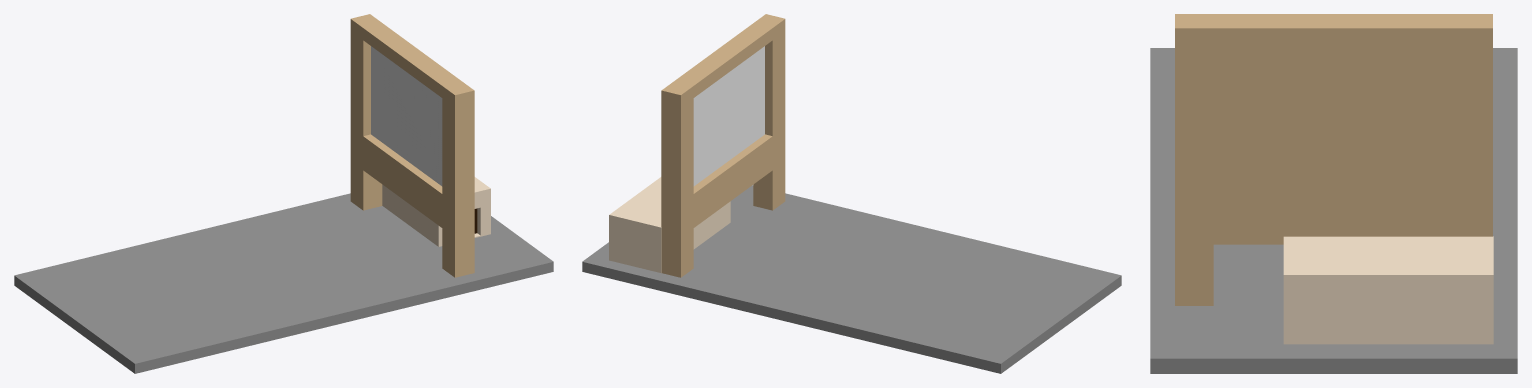
Rendered from Kino I.FBX.
3 views of the same model, side by side, from view 1: azimuth 30°, elevation 25°; view 2: azimuth 150°, elevation 25°; view 3: azimuth 270°, elevation 25° (orthographic). The views are drawn at different scales.
Visible parts, largest first — view 1: Plane001, Box001, Object, Box004; view 2: Plane001, Box001, Object, Box004; view 3: Box001, Plane001, Box004.
Boxes of the visible parts, x1=… form: Plane001: x1=14, y1=193, x2=553, y2=373; Box001: x1=350, y1=14, x2=474, y2=277; Object: x1=371, y1=46, x2=442, y2=186; Box004: x1=382, y1=177, x2=490, y2=246; Plane001: x1=582, y1=185, x2=1121, y2=373; Box001: x1=661, y1=14, x2=785, y2=277; Object: x1=693, y1=46, x2=764, y2=186; Box004: x1=609, y1=177, x2=730, y2=273; Box001: x1=1175, y1=14, x2=1492, y2=305; Plane001: x1=1150, y1=48, x2=1517, y2=373; Box004: x1=1283, y1=236, x2=1493, y2=344.
Size of the model in its own units: 78.74 by 34.62 by 39.37.
